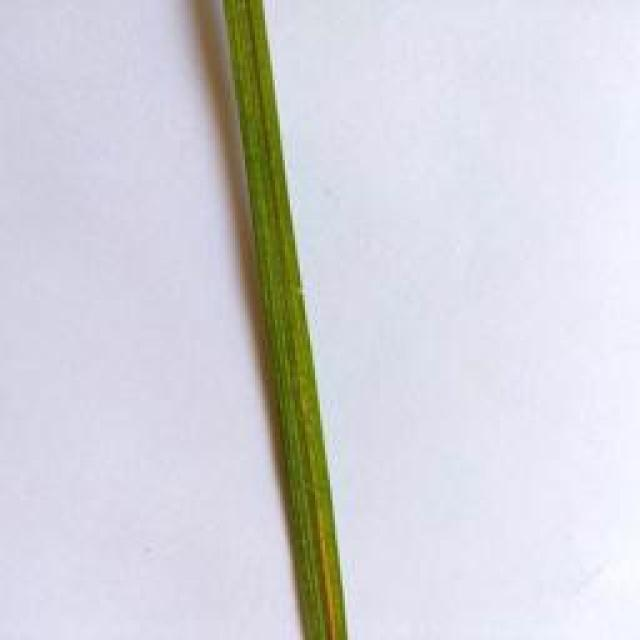Rice_Blast: (298, 480, 342, 640)
